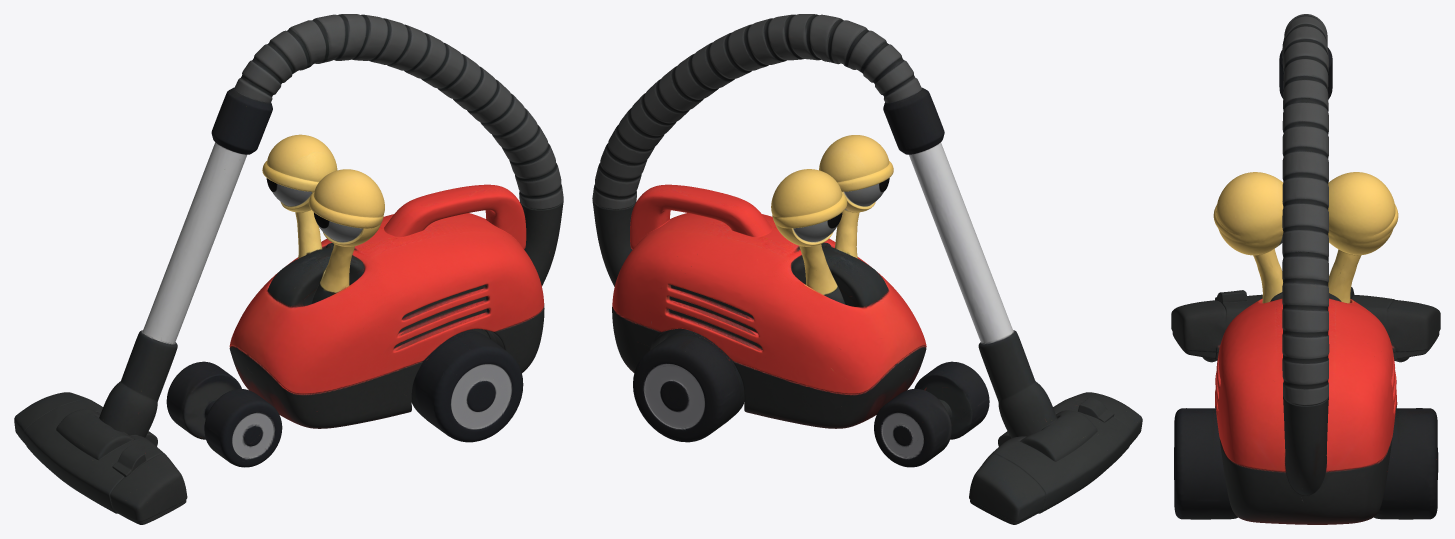
The model's file is vacuum-snail.glb.
3 renders of one model, left to right at view 1: azimuth 30°, elevation 25°; view 2: azimuth 150°, elevation 25°; view 3: azimuth 270°, elevation 25°, orthographic. The views are drawn at different scales.
Size of the model in its own units: 1.9 by 1.48 by 0.8198.
Materials: 1 (1 with a texture image).
